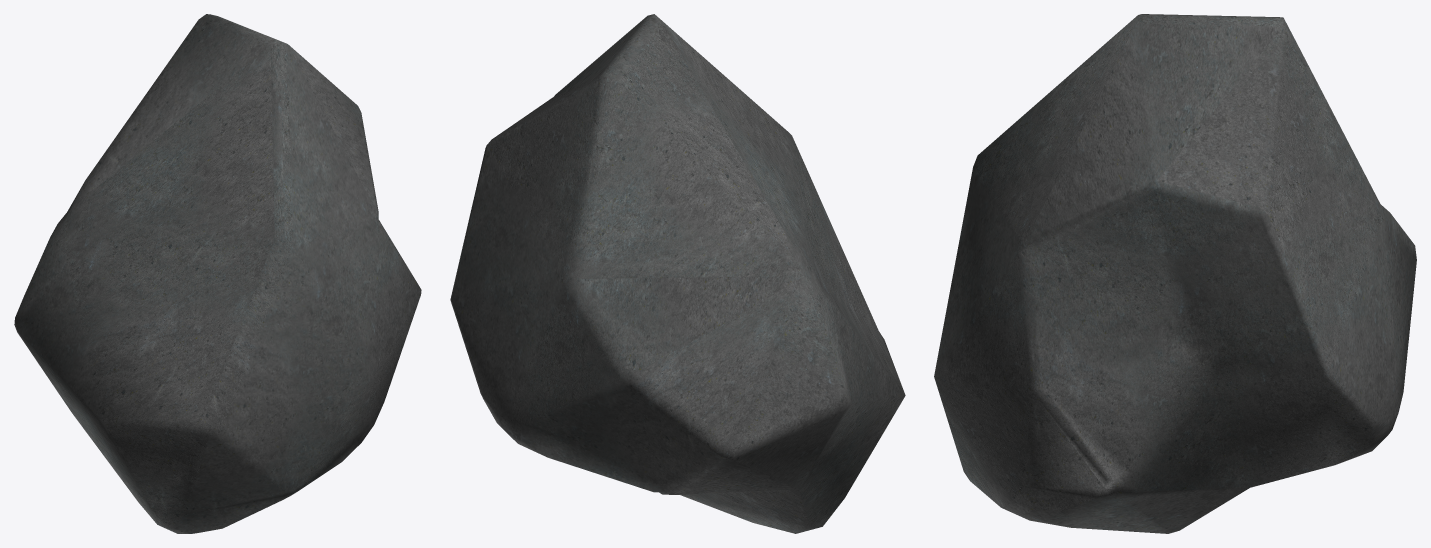
The model's file is rock.013.obj.
The picture shows the model from 3 angles, left to right: view 1: azimuth 30°, elevation 25°; view 2: azimuth 150°, elevation 25°; view 3: azimuth 270°, elevation 25°; orthographic projection. The views are drawn at different scales.
Bounding box in the file's own units: 1.91 × 2.49 × 1.91.
1 material, 1 textured.
